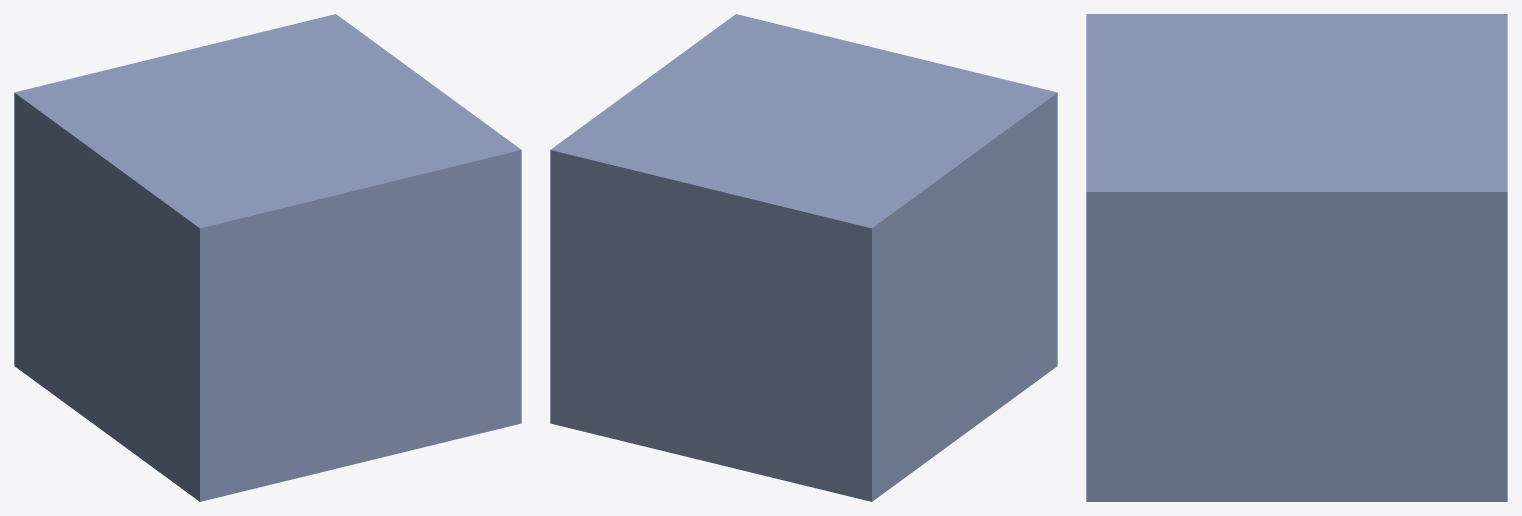
The model's file is snowCubeGEO.fbx.
3 renders of one model, left to right at view 1: azimuth 30°, elevation 25°; view 2: azimuth 150°, elevation 25°; view 3: azimuth 270°, elevation 25°, orthographic. The views are drawn at different scales.
Visible parts, largest first — view 1: snowCube; view 2: snowCube; view 3: snowCube.
Part boxes in pixels (x1,y1,x2,y2): snowCube: (14,14,521,501); snowCube: (550,14,1057,501); snowCube: (1086,14,1507,501).
Size of the model in its own units: 1 by 0.8125 by 1.
